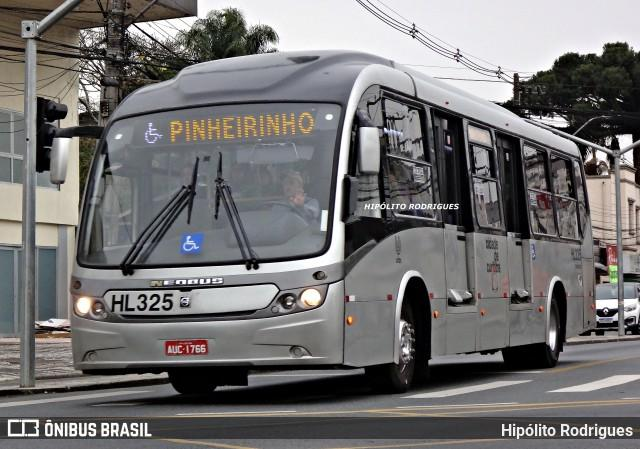PINHEIRINHO: (166, 108, 316, 145)
